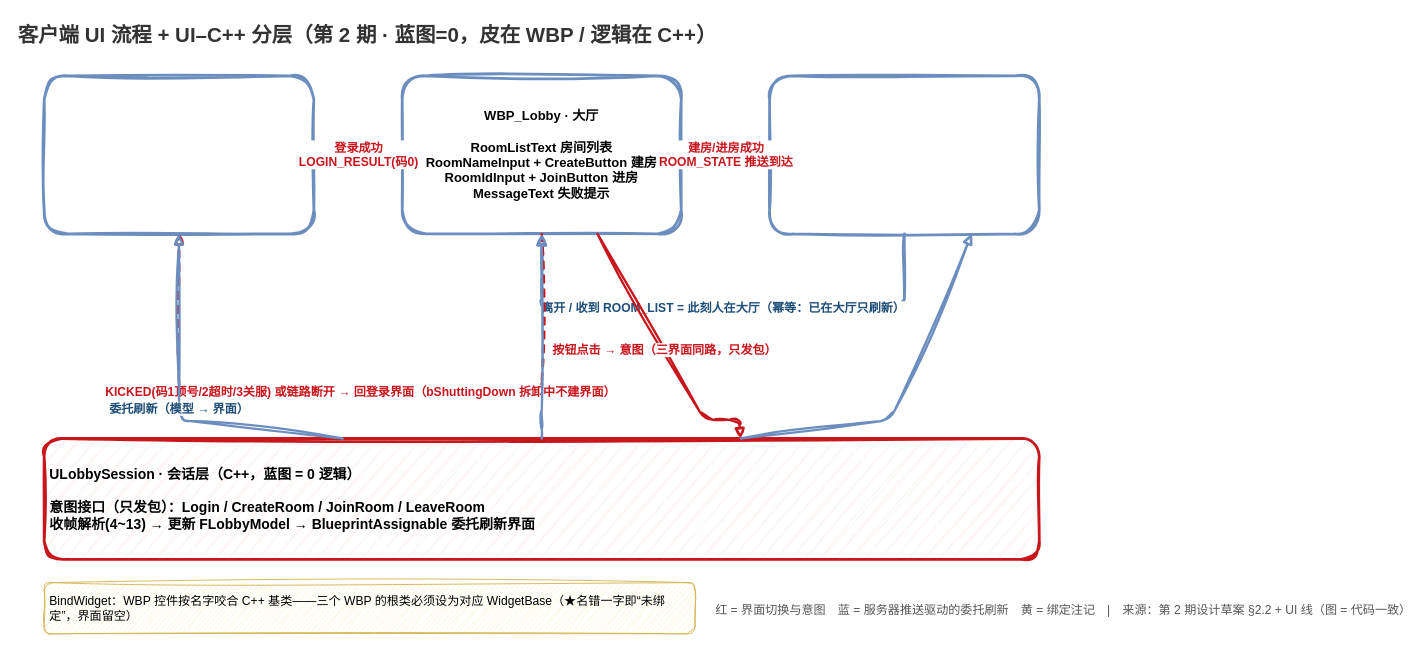
Image size: 1428x650. Some labels were removed from this diagram. Each missing label, with the box of its shape:
WBP_Login · 登录界面 NameInput 名字输入 LoginButton 登录 MessageText 状态/报错: (42, 74, 315, 235)
WBP_Room · 房间等待页 RoomTitleText 房号 MemberListText 成员（首位★房主） LeaveButton 离开回大厅: (768, 74, 1040, 235)
